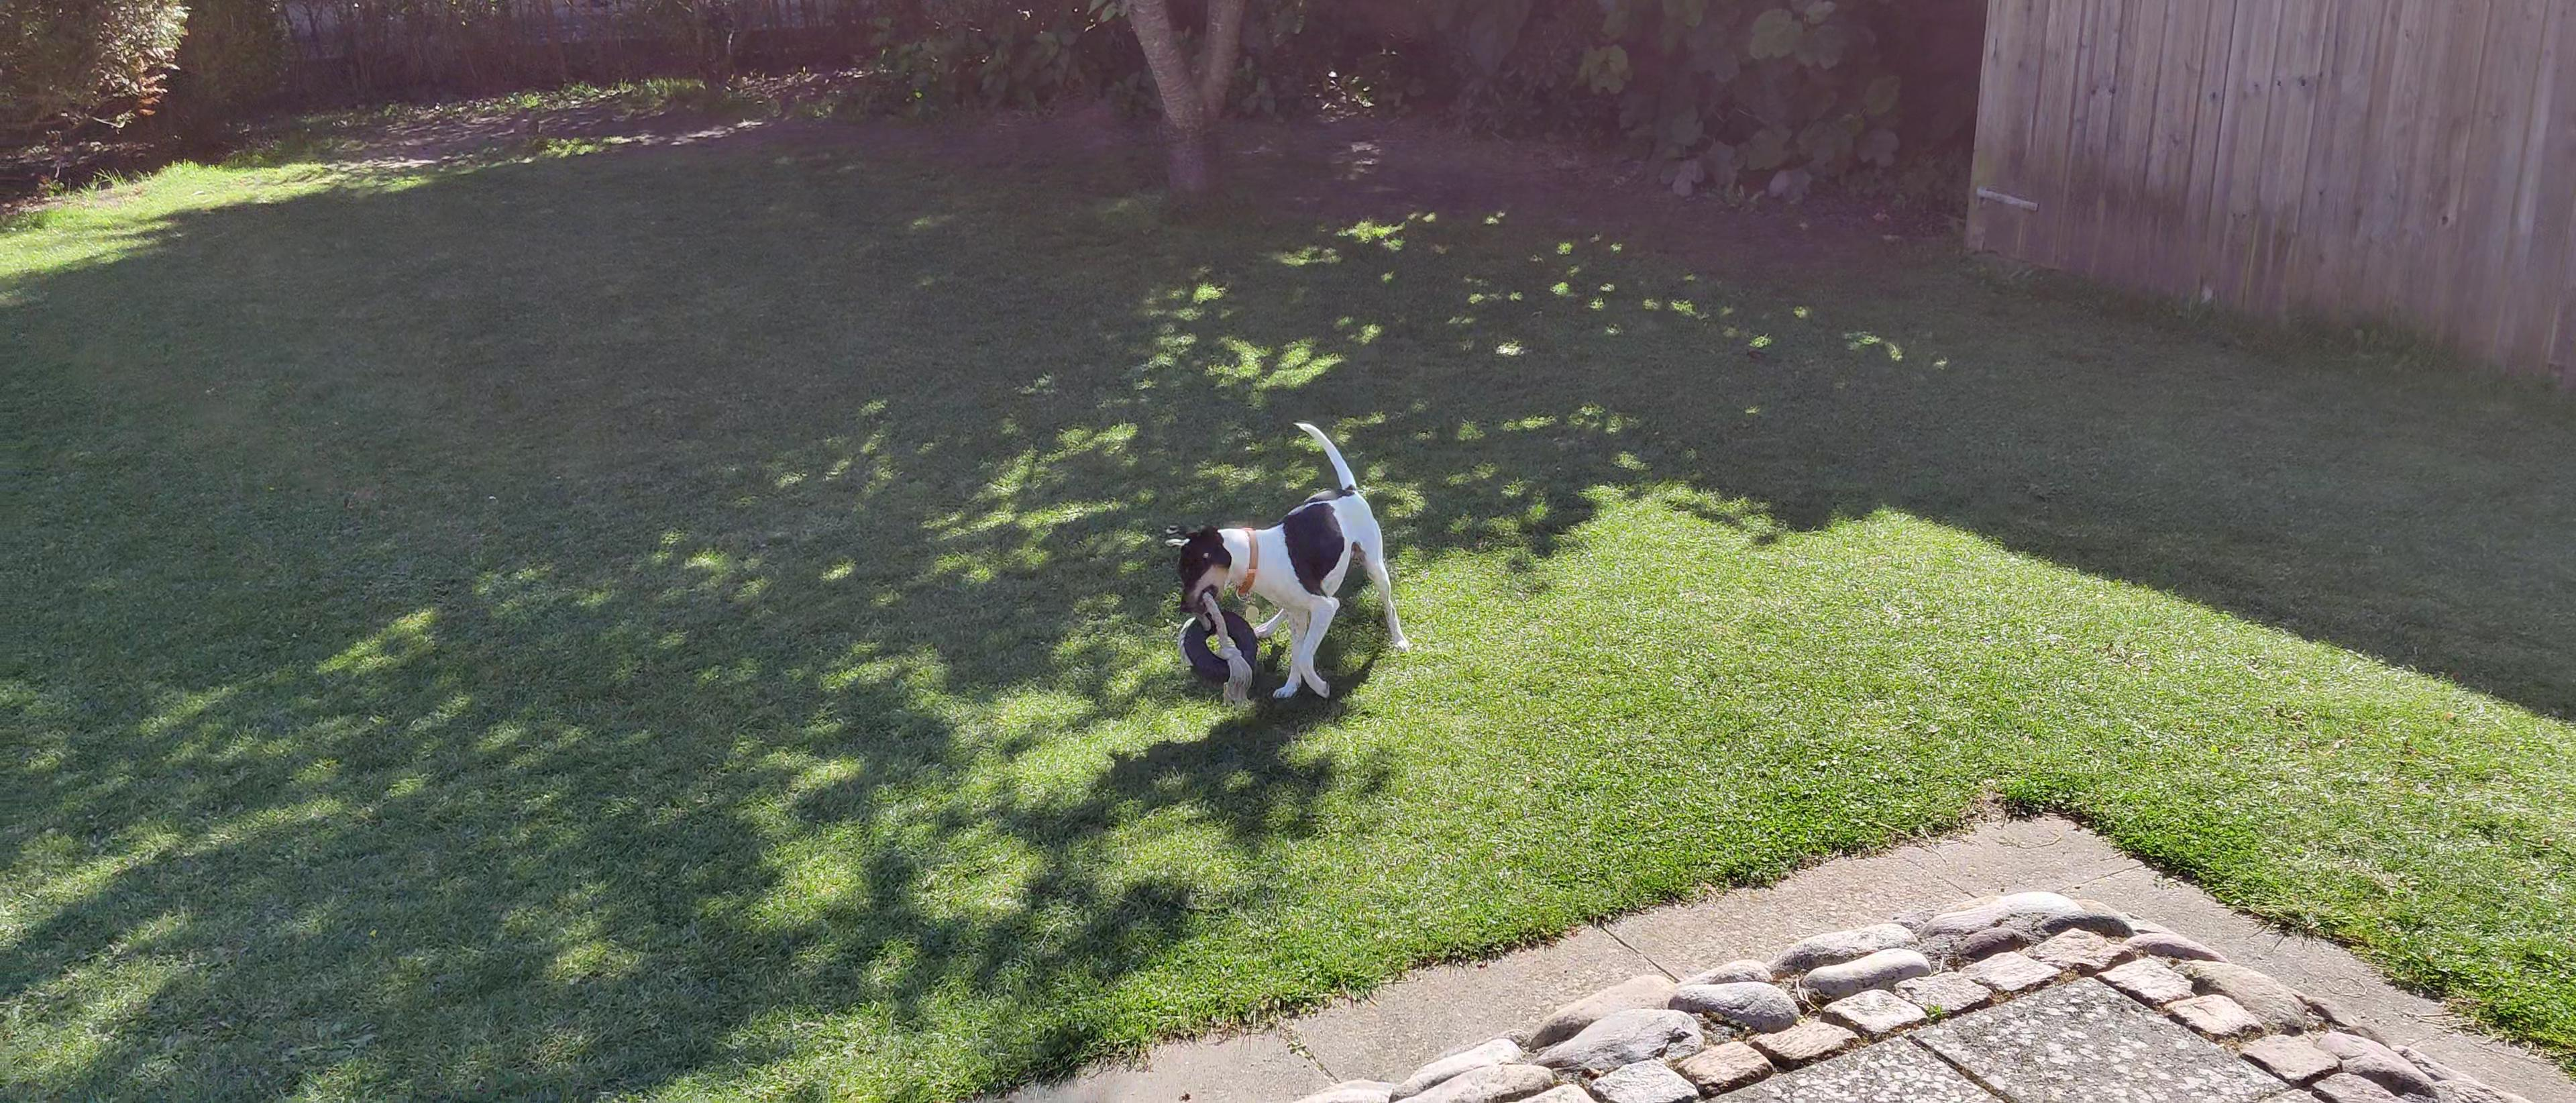Dog: (1163, 421, 1423, 697)
